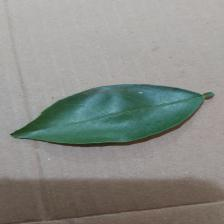healthy: (12, 83, 203, 147)
